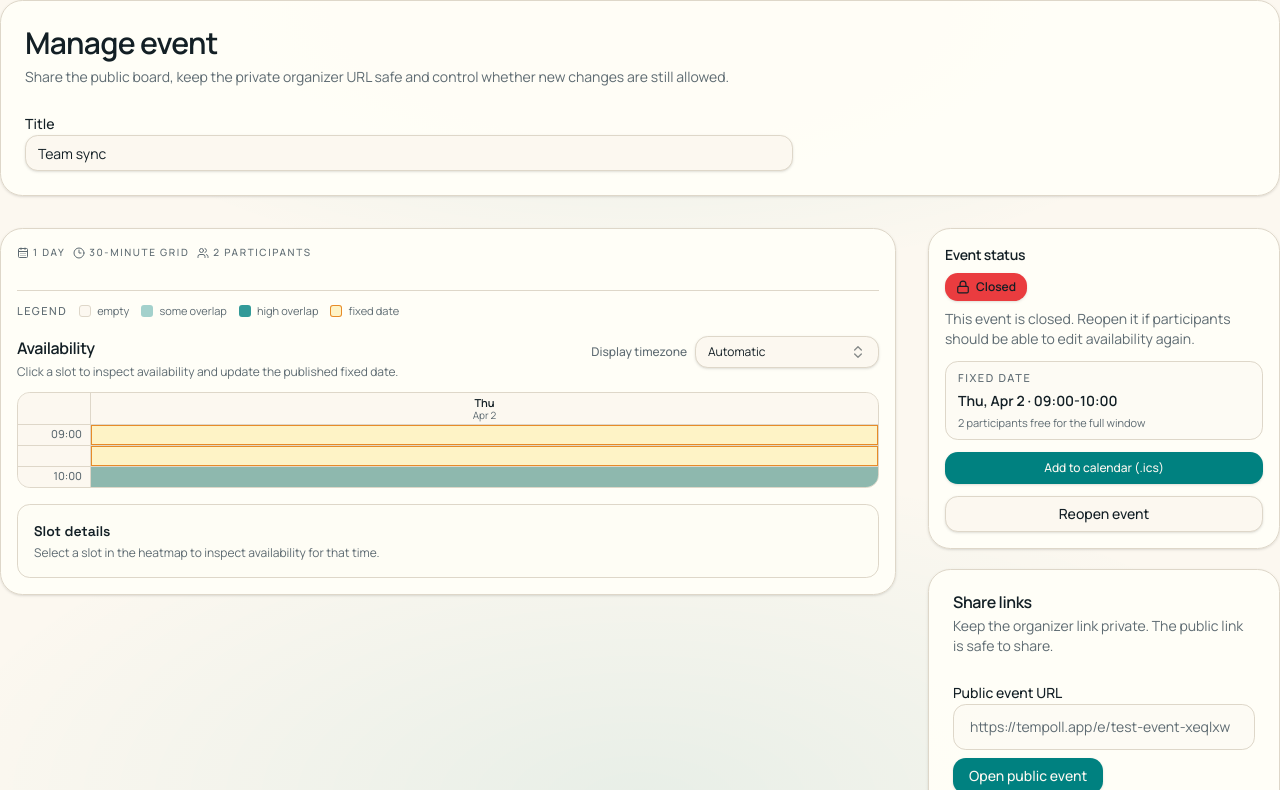
Test: ManageEventClient › requires confirmation before reopening a closed event
The width and height of the screenshot is (1280, 790).
Click the button "Reopen event".
click(1104, 514)  # box [945, 496, 1263, 532]
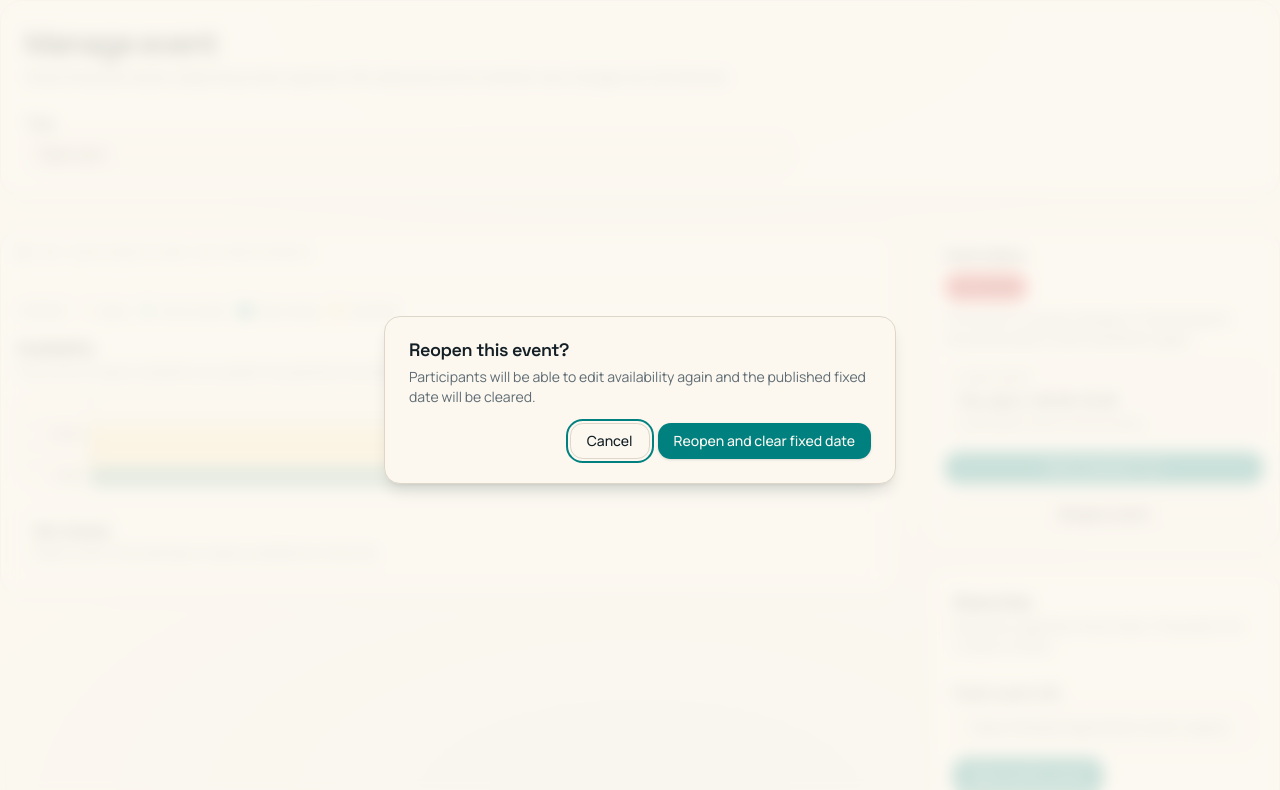
Result: the heading "Reopen this event?" is shown at [409, 338, 569, 361]
Click the button "Reopen and clear fixed date".
click(764, 441)  # box [658, 423, 871, 459]
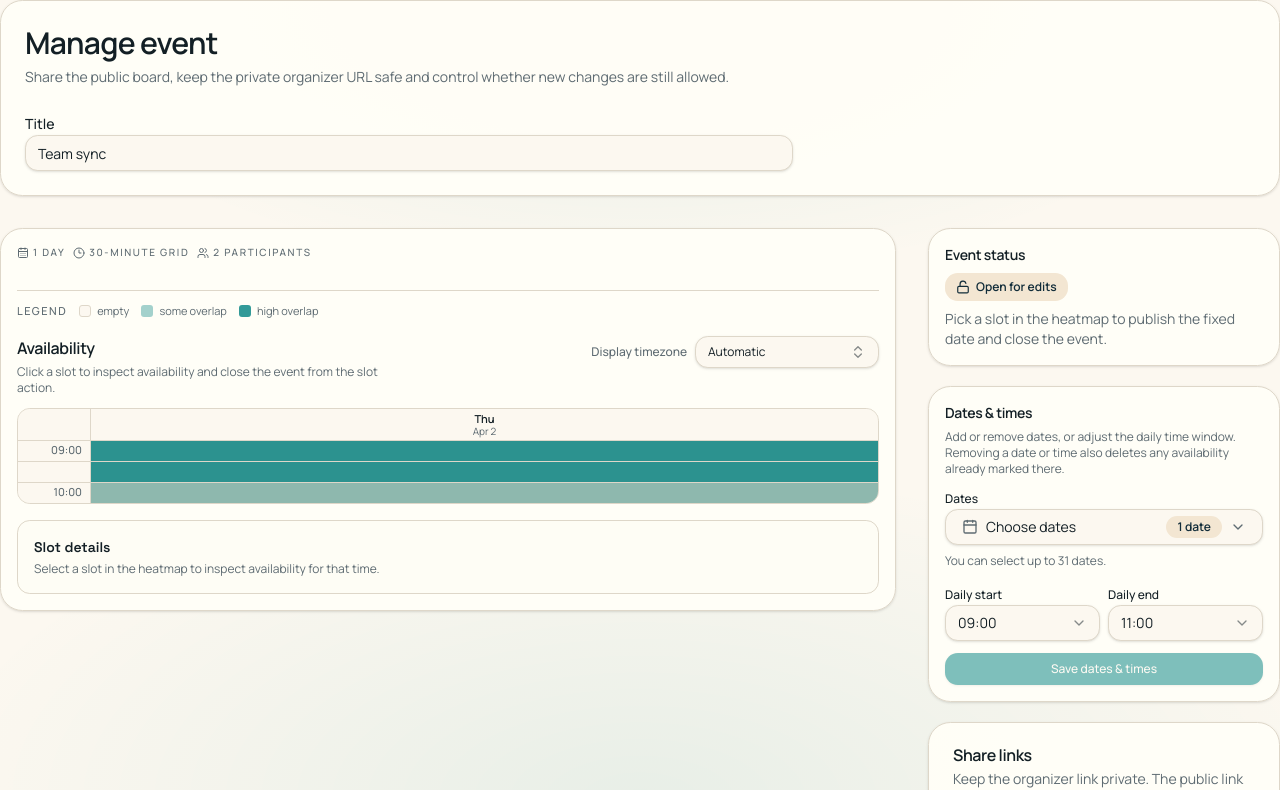
Result: the text "Open for edits" is shown at [945, 273, 1068, 301]
Result: the heading "Reopen this event?" is gone
